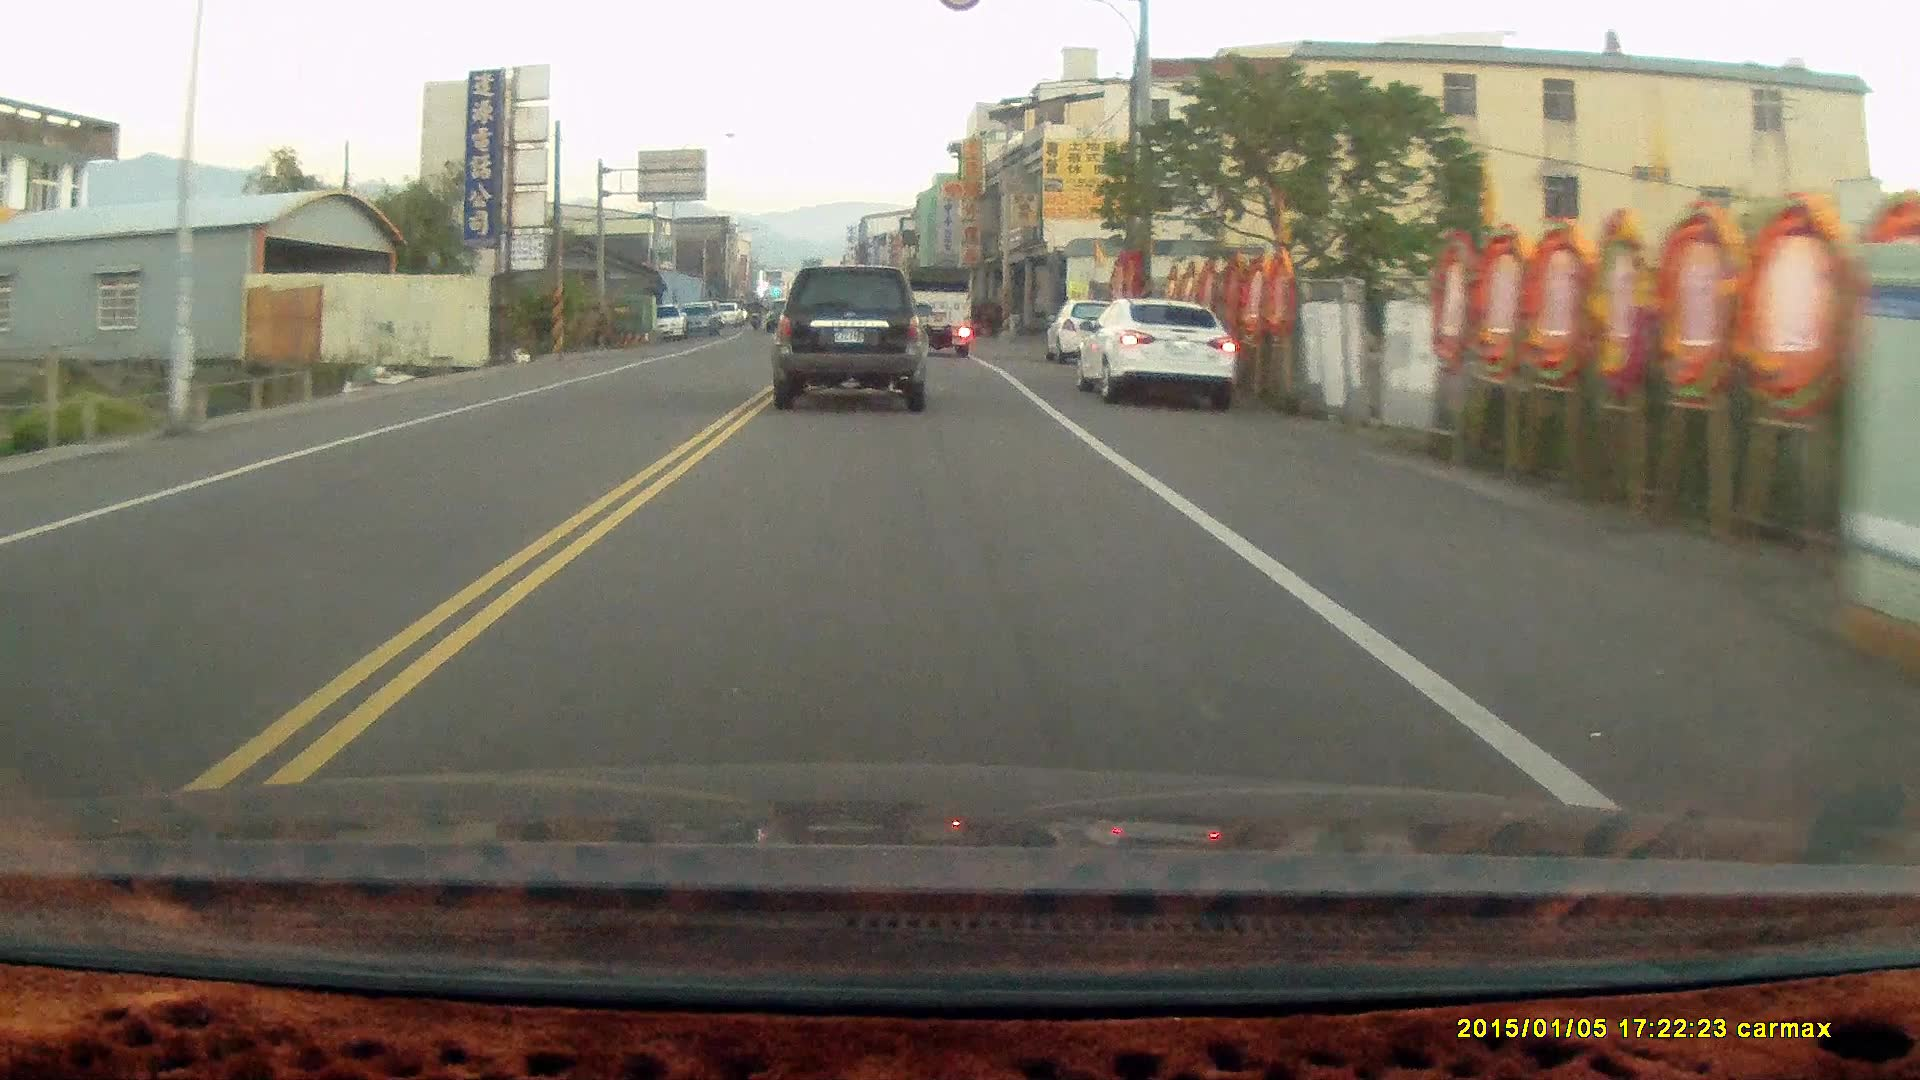vehicle: (771, 262, 934, 411), (1077, 291, 1236, 405), (902, 262, 977, 359), (1044, 297, 1137, 364)
